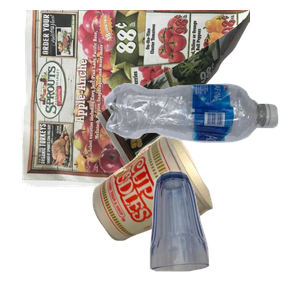glass: (147, 168, 300, 300)
paper: (18, 10, 258, 190)
plastic: (102, 81, 300, 216)
trash: (90, 129, 295, 300)
